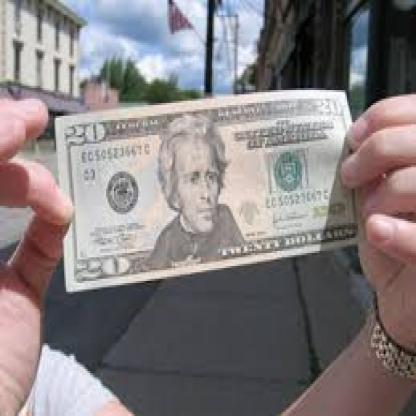billete: (53, 88, 365, 287)
